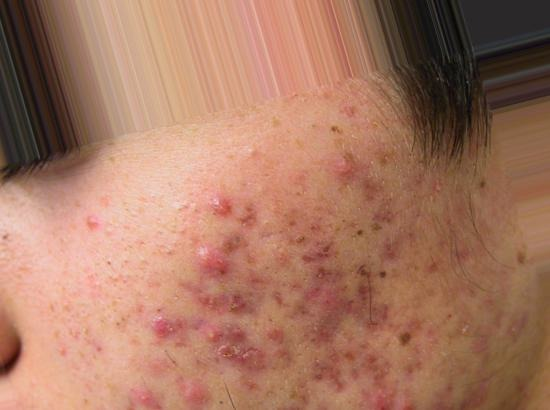Acne: (68, 156, 512, 401)
